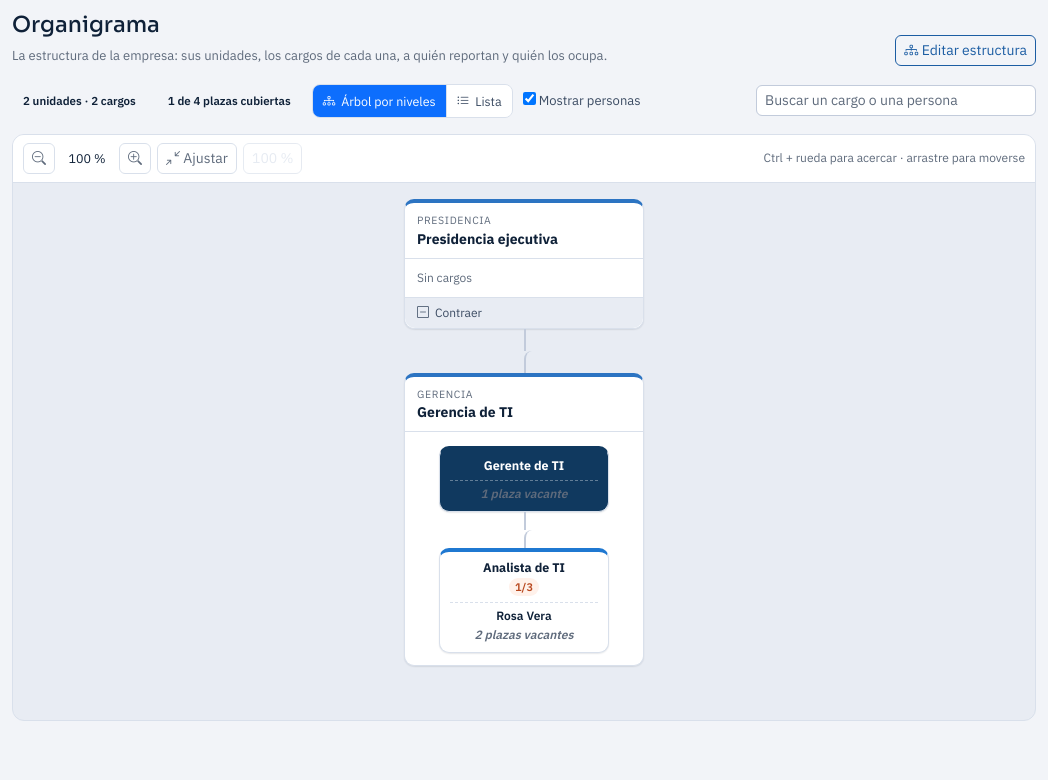
Scenario: El organigrama › una rama se contrae
El botón dice de qué unidad es (revisión final UX/UI, 28/10/2026).
Click the button named "Contraer Presidencia ejecutiva": [524, 312] box [405, 297, 643, 328]
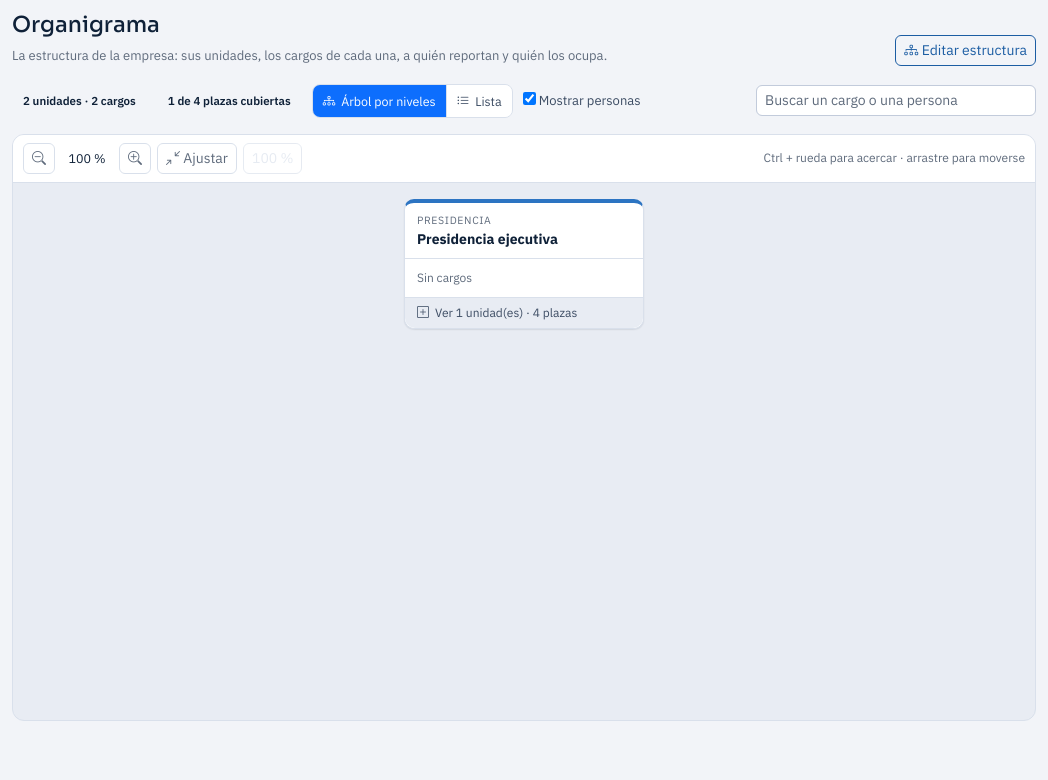
Now the text "Gerencia de TI" is gone
Now the button "Ver 1 unidad(es) · 4 plazas" is collapsed, box [405, 297, 643, 328]
